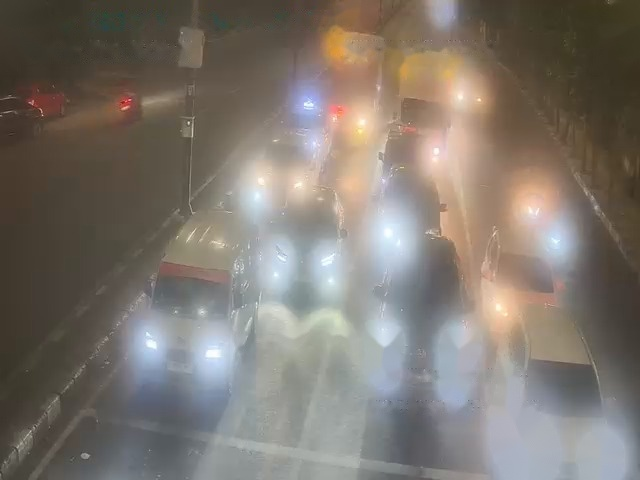Mobil: (146, 209, 262, 391), (498, 306, 612, 469), (381, 227, 474, 388), (470, 219, 561, 334), (274, 180, 347, 296), (372, 173, 448, 237), (253, 127, 314, 198), (5, 68, 69, 114), (379, 125, 433, 178), (283, 93, 330, 148), (1, 90, 42, 132), (457, 64, 489, 108)
Motor: (519, 167, 548, 217), (119, 76, 143, 119), (549, 213, 569, 259)
Truk: (394, 61, 454, 159), (324, 34, 379, 137)
